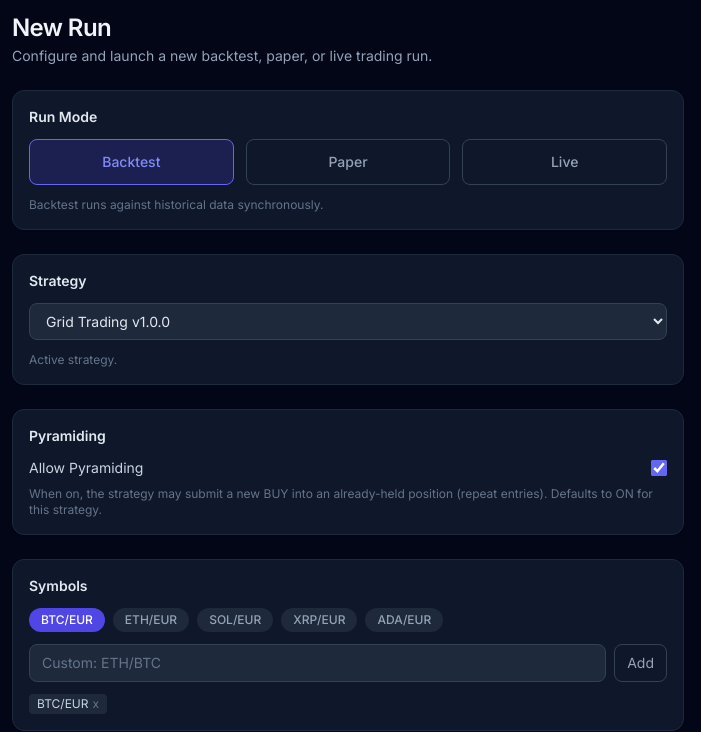
NewRunPage — auto-correct mode › TEST-S51C2-412: switching to a demoted strategy while in paper auto-corrects to backtest
# Select paper (allowed for the active strategy).
Click the radio button labelled "paper" at (348, 162), box [246,139,450,185]
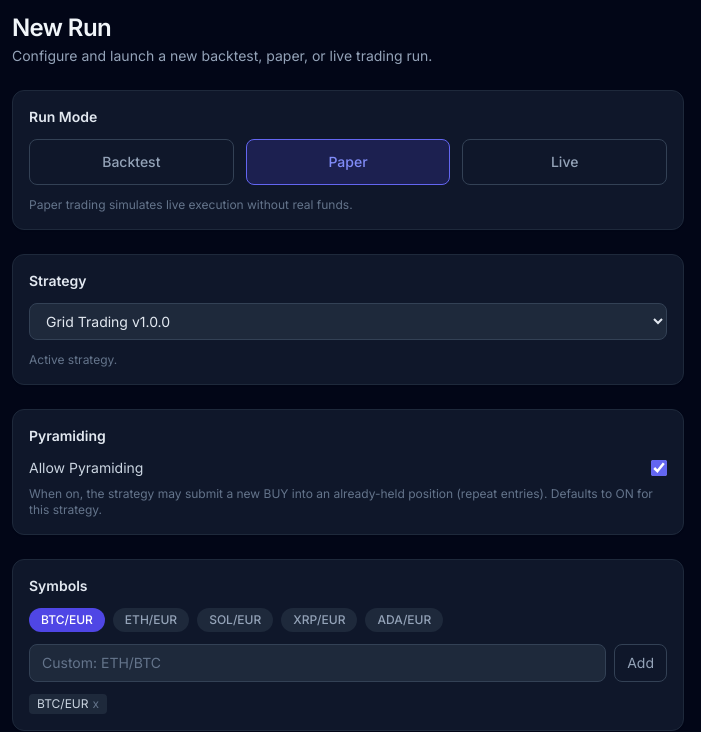
Expected: the radio button labelled "paper" is checked, [246,139,450,185]
# Switch strategy to the demoted one via the dropdown.
Select "MA Crossover v1.0.0" in the dropdown at (348, 322), box [29,303,667,340]
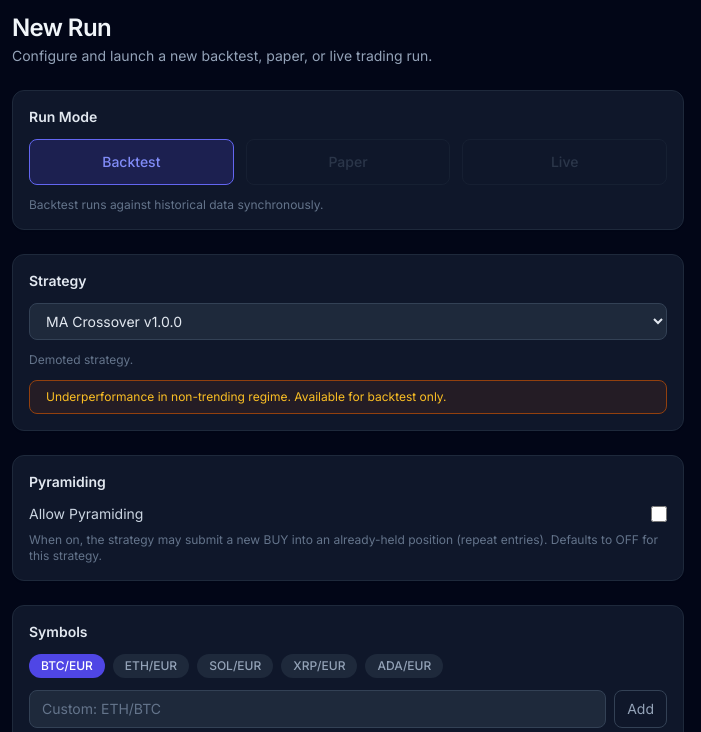
Expected: the radio button labelled "backtest" is checked, [29,139,234,185]
Expected: the radio button labelled "paper" is disabled, [246,139,450,185]
Expected: the radio button labelled "live" is disabled, [462,139,667,185]
